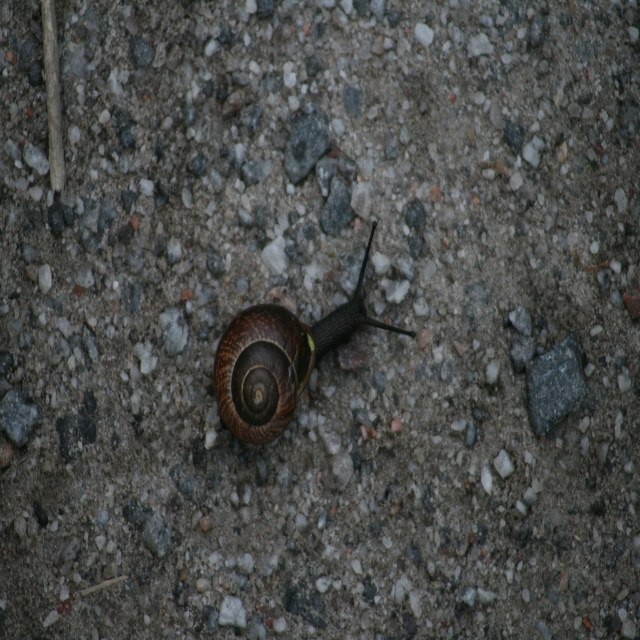Snail: (212, 220, 416, 447)
